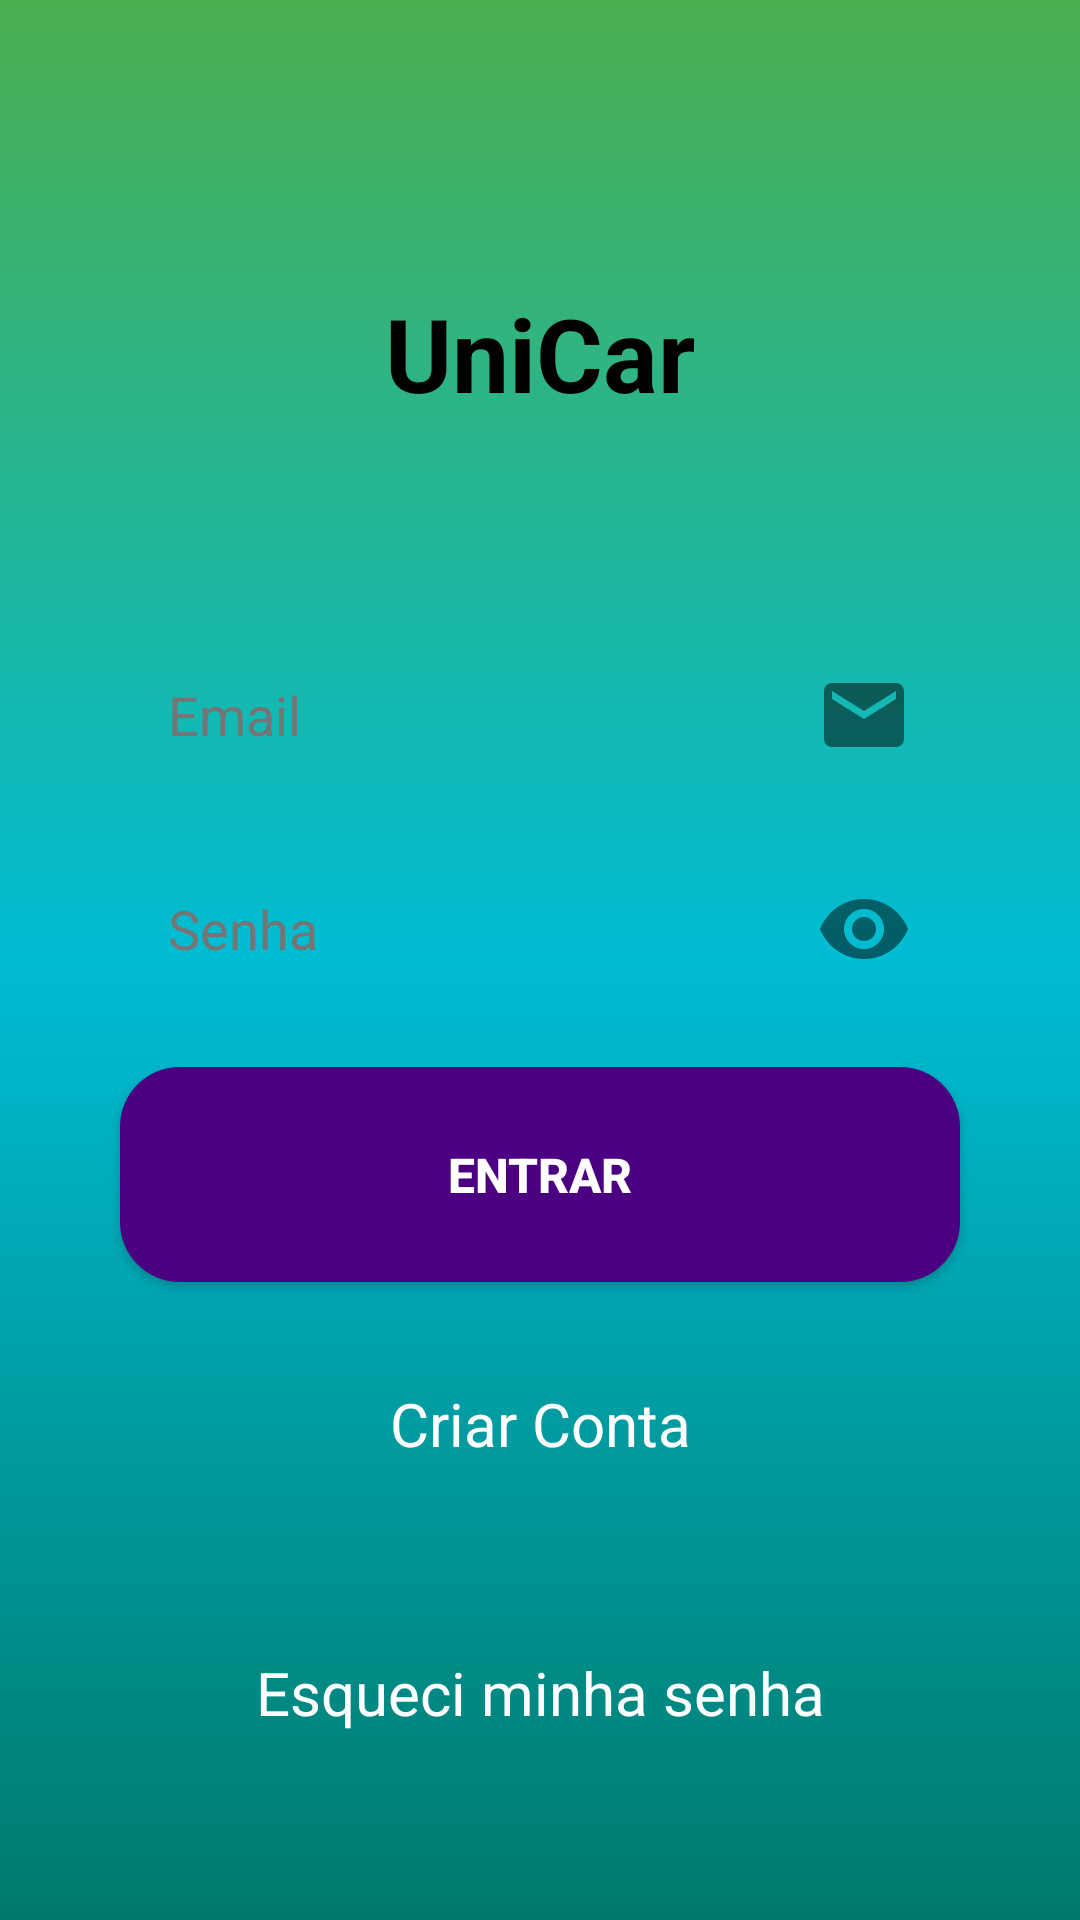

Icons on this 1080*1920 Android screen, each with the point to tap as point (x, y):
eye: point (864, 929)
